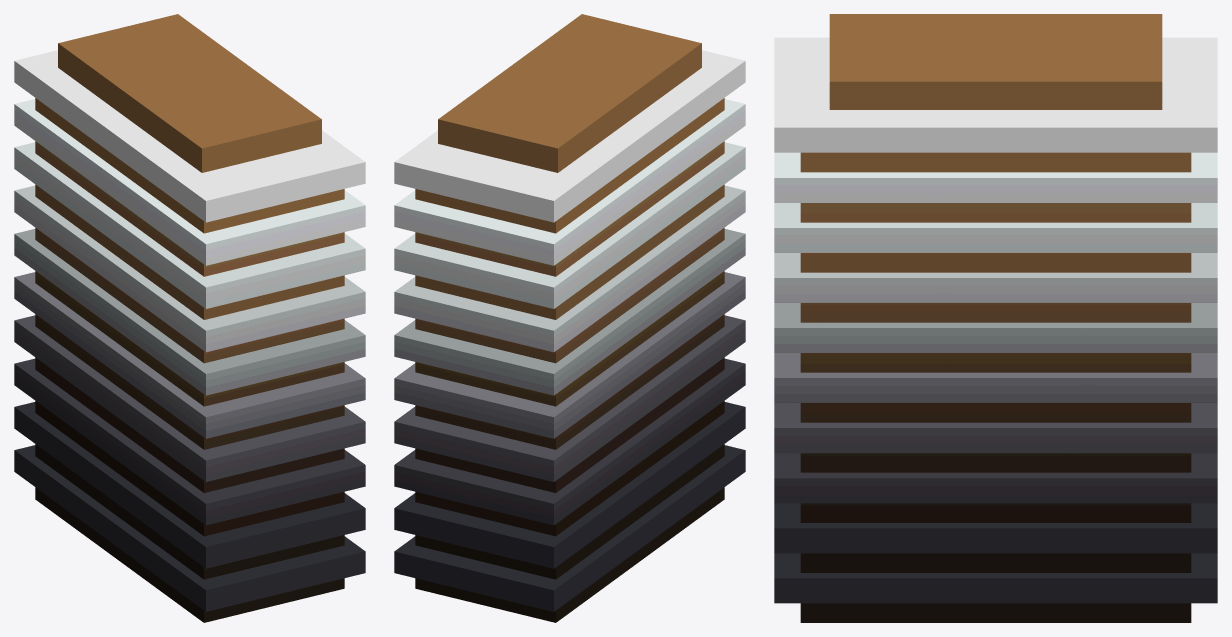
File: SM_Building_Wide_2.fbx
3 renders of one model, left to right at view 1: azimuth 30°, elevation 25°; view 2: azimuth 150°, elevation 25°; view 3: azimuth 270°, elevation 25°, orthographic. The views are drawn at different scales.
Parts seen in each view (by area): view 1: Building_Wide_2; view 2: Building_Wide_2; view 3: Building_Wide_2.
Boxes of the visible parts, <box> form: Building_Wide_2: <box>14,14,365,622</box>; Building_Wide_2: <box>394,14,745,622</box>; Building_Wide_2: <box>774,14,1217,622</box>.
Bounding box in the file's own units: 9.42 × 26.09 × 19.58.
